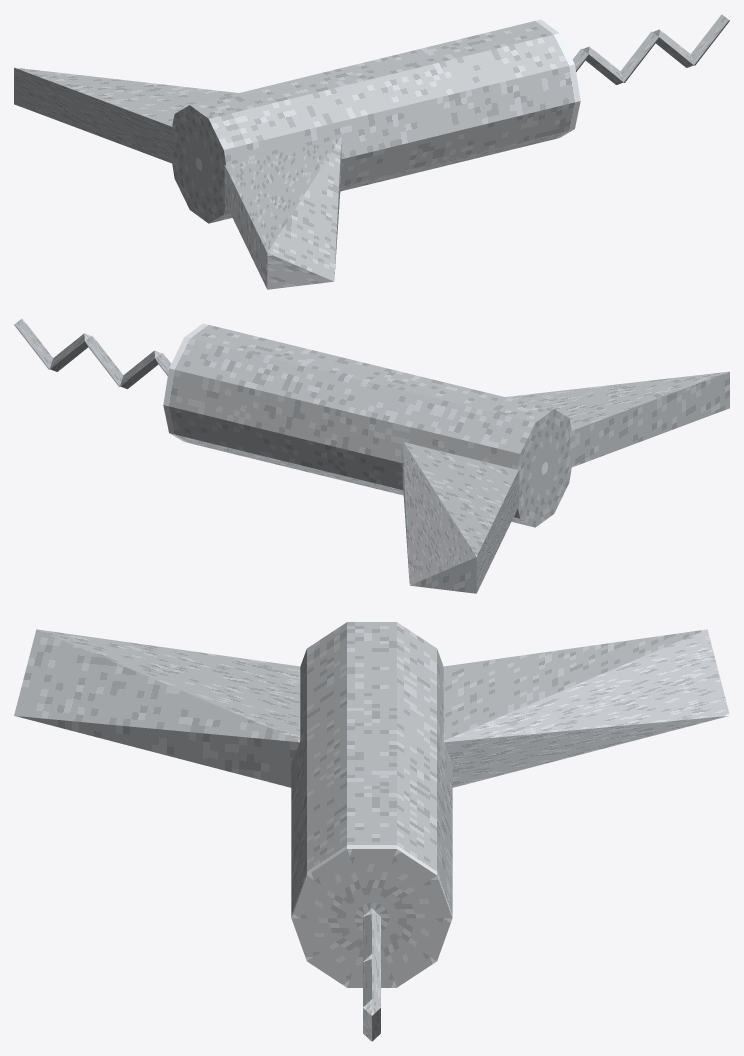
Rendered from corkscrew.glb.
The picture shows the model from 3 angles, top to bottom: view 1: azimuth 30°, elevation 25°; view 2: azimuth 150°, elevation 25°; view 3: azimuth 270°, elevation 25°; orthographic projection. The views are drawn at different scales.
Visible parts, largest first — view 1: block_body, block_wing1, block_wing-1, block_worm3, block_worm1, block_worm4, block_worm2; view 2: block_body, block_wing-1, block_wing1, block_worm3, block_worm1, block_worm4, block_worm2; view 3: block_body, block_wing-1, block_wing1, block_worm3, block_worm1.
Part boxes in pixels (<box>): block_body: <box>172,19,580,223</box>; block_wing1: <box>224,138,341,289</box>; block_wing-1: <box>14,67,238,163</box>; block_worm3: <box>653,29,693,67</box>; block_worm1: <box>582,46,623,84</box>; block_worm4: <box>691,14,729,65</box>; block_worm2: <box>620,31,658,82</box>; block_body: <box>163,323,571,527</box>; block_wing-1: <box>402,442,519,593</box>; block_wing1: <box>505,371,729,467</box>; block_worm3: <box>50,333,90,371</box>; block_worm1: <box>120,350,161,388</box>; block_worm4: <box>14,318,52,369</box>; block_worm2: <box>85,335,123,386</box>; block_body: <box>291,622,452,987</box>; block_wing-1: <box>443,629,729,787</box>; block_wing1: <box>14,629,300,787</box>; block_worm3: <box>363,959,380,1006</box>; block_worm1: <box>363,914,380,961</box>.
Bounding box in the file's own units: 0.2014 × 0.0342 × 0.16.
Materials: 1 (1 with a texture image).
